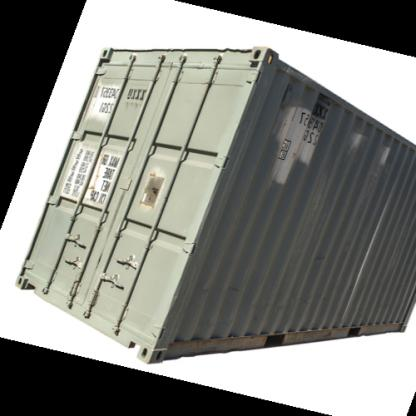Damage: (269, 98, 324, 179), (138, 169, 171, 210), (343, 115, 370, 155), (378, 142, 398, 178), (268, 298, 296, 315), (219, 281, 243, 297), (304, 252, 328, 264)
